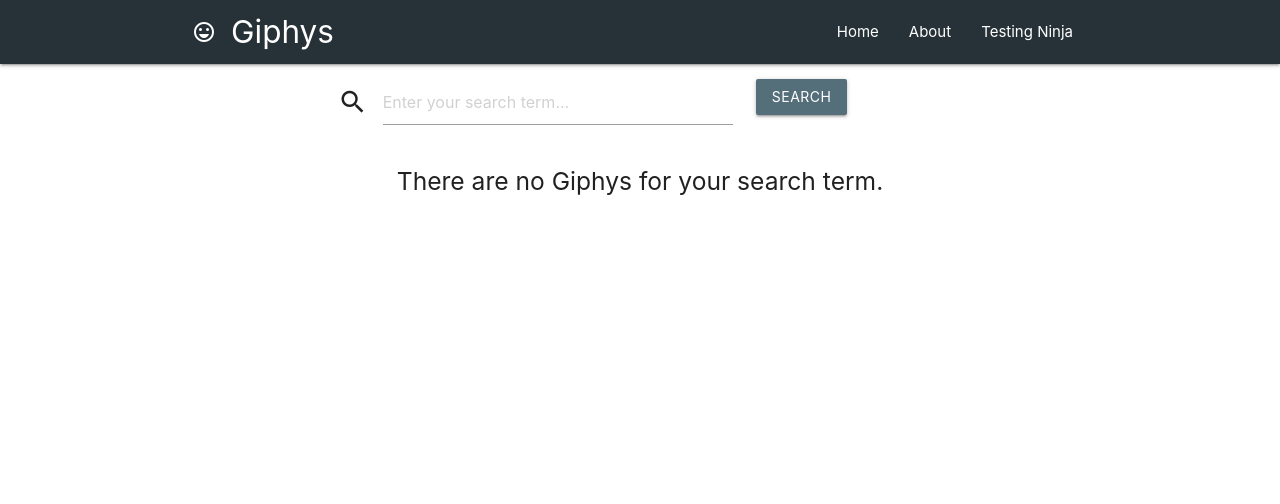
Test case: App Routing › displays the home page when selecting home link from the search page using the desktop menu
Check: the heading "There are no Giphys for your search term." is shown, box [397,166,883,196]
Click the link "Home": (858,32) [837,22,879,41]
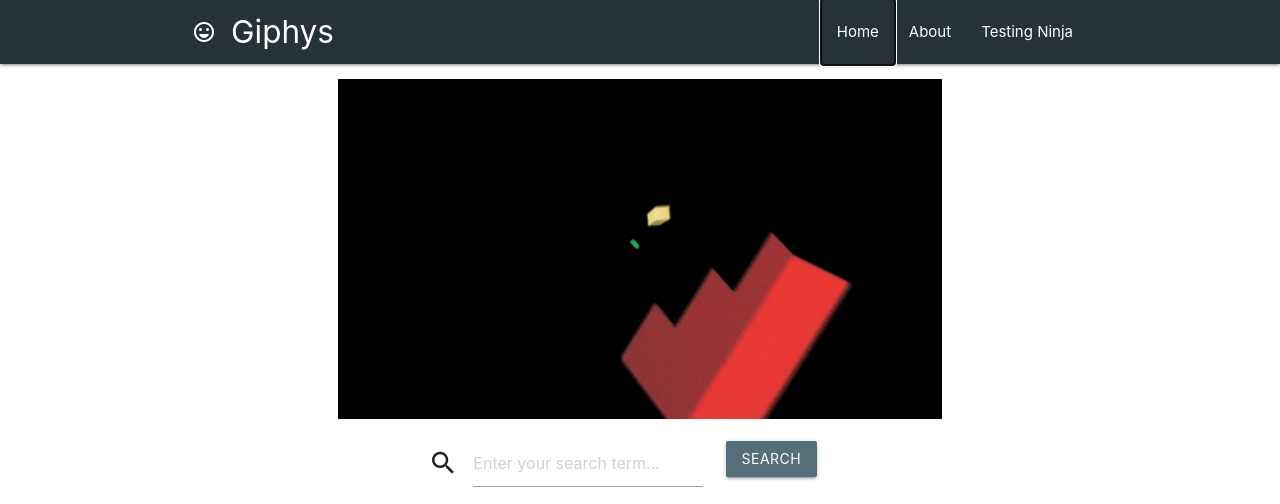
Check: the picture with test id "giphy-search-image" is shown, box [338,79,942,419]
